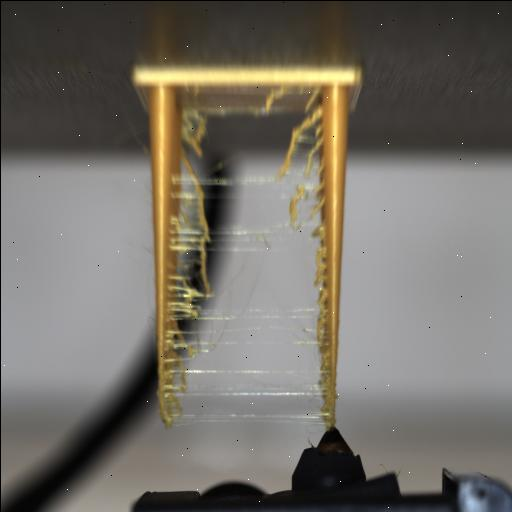stringing: (169, 91, 322, 422)
